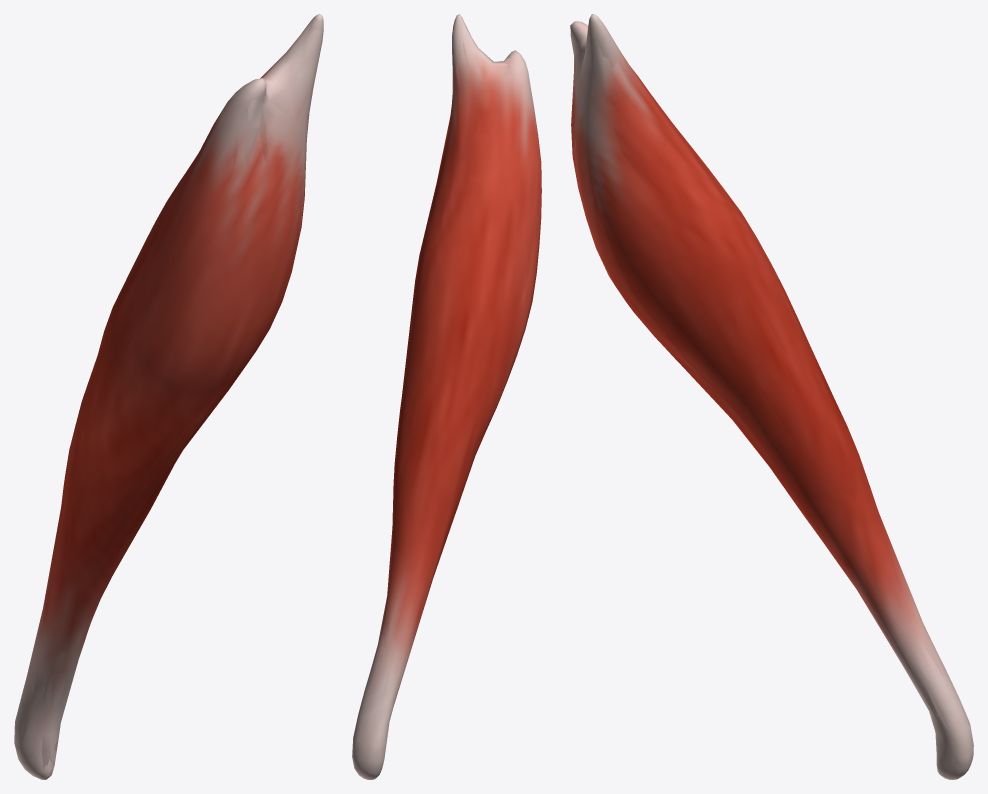
Rendered from L Gastrocnemius.fbx.
3 renders of one model, left to right at view 1: azimuth 30°, elevation 25°; view 2: azimuth 150°, elevation 25°; view 3: azimuth 270°, elevation 25°, orthographic. The views are drawn at different scales.
Parts seen in each view (by area): view 1: L Gastrocnemius, L Gastrocnemius low; view 2: L Gastrocnemius, L Gastrocnemius low; view 3: L Gastrocnemius, L Gastrocnemius low.
Part boxes in pixels (left/top/right/bottom): L Gastrocnemius: left=14, top=14, right=323, bottom=779; L Gastrocnemius low: left=14, top=20, right=322, bottom=777; L Gastrocnemius: left=352, top=14, right=541, bottom=779; L Gastrocnemius low: left=353, top=20, right=539, bottom=770; L Gastrocnemius: left=570, top=14, right=973, bottom=779; L Gastrocnemius low: left=571, top=26, right=971, bottom=777.
Size of the model in its own units: 9.31 by 54.58 by 25.02.
